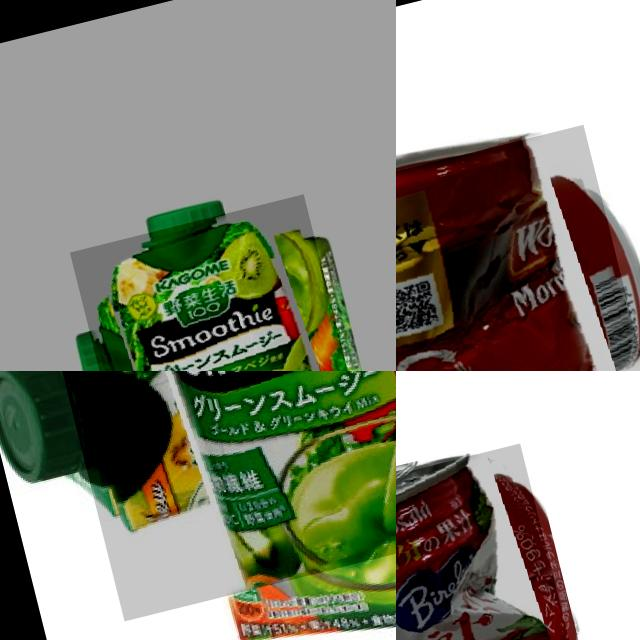Aluminium Foil: (7, 371, 396, 621), (68, 194, 360, 371)
Can: (396, 124, 640, 371), (396, 443, 592, 640)
